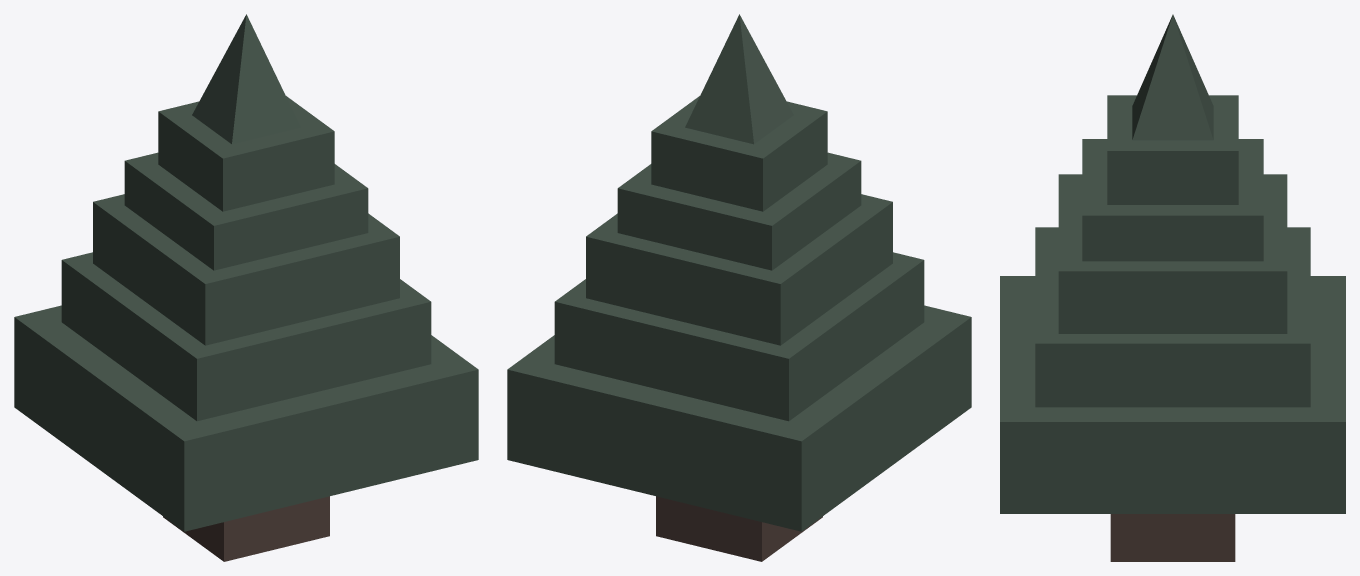
Rendered from winter tree.fbx.
The picture shows the model from 3 angles, left to right: view 1: azimuth 30°, elevation 25°; view 2: azimuth 150°, elevation 25°; view 3: azimuth 270°, elevation 25°; orthographic projection.
Parts seen in each view (by area): view 1: leaf bunch.003, winter tree; view 2: leaf bunch.003, winter tree; view 3: leaf bunch.003, winter tree.
Boxes of the visible parts, bbox=[...] form: leaf bunch.003: bbox=[14, 14, 478, 531]; winter tree: bbox=[163, 496, 329, 561]; leaf bunch.003: bbox=[507, 14, 971, 531]; winter tree: bbox=[656, 496, 822, 561]; leaf bunch.003: bbox=[1000, 14, 1345, 513]; winter tree: bbox=[1110, 514, 1235, 561].
Bounding box in the file's own units: 278 × 463 × 278.
